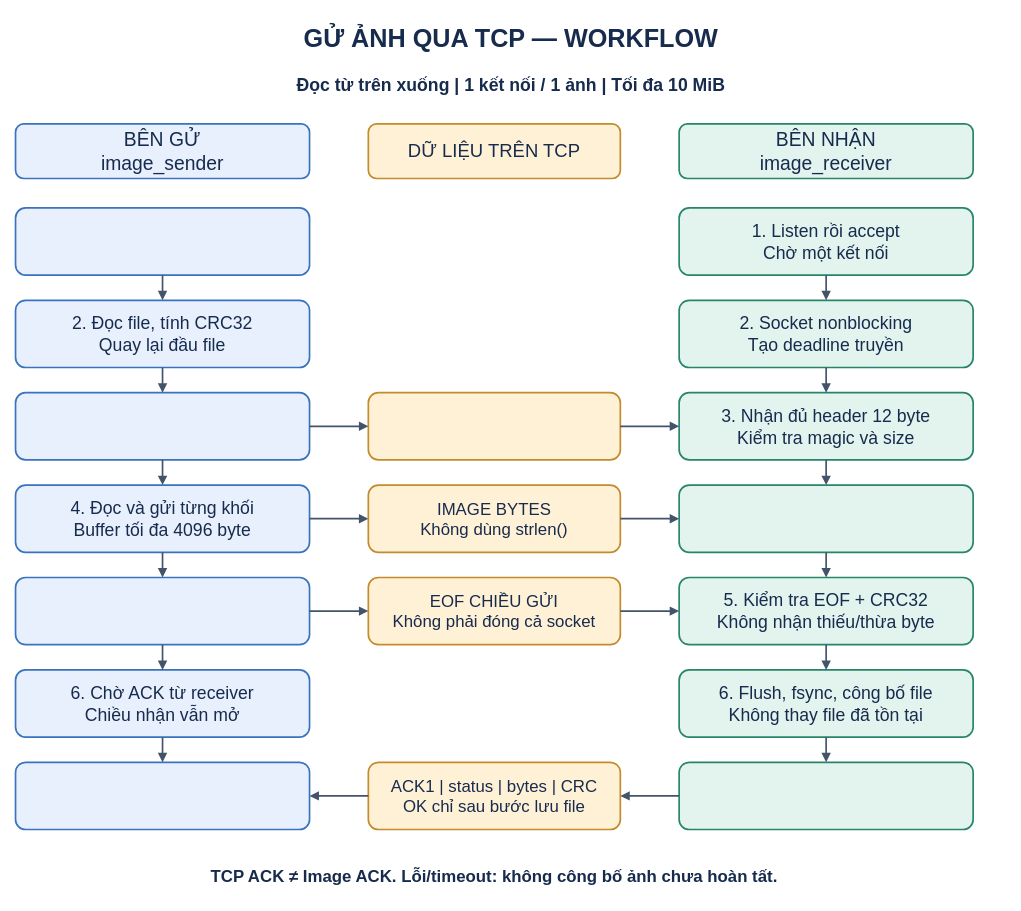
Image size: 1021x911. Some labels were removed from this diagram. The shapes that lost their labels are listed below. From the top down, each one's centre as x and y in pixels, then its label:
[162,241]: 1. Mở file dạng binary Kiểm tra size 1 byte..10 MiB
[162,425]: 3. Connect và gửi header Magic + size + CRC32
[494,425]: HEADER 12 BYTE IMG1 | size | CRC32
[826,518]: 4. Nhận và ghi file tạm Cập nhật CRC32 từng khối
[162,610]: 5. Half-close chiều gửi shutdown(SHUT_WR)
[162,795]: 7. Kiểm tra status/size/CRC In Image ACK khi đúng
[826,795]: 7. Gửi ACK 16 byte Đóng socket và kết thúc
